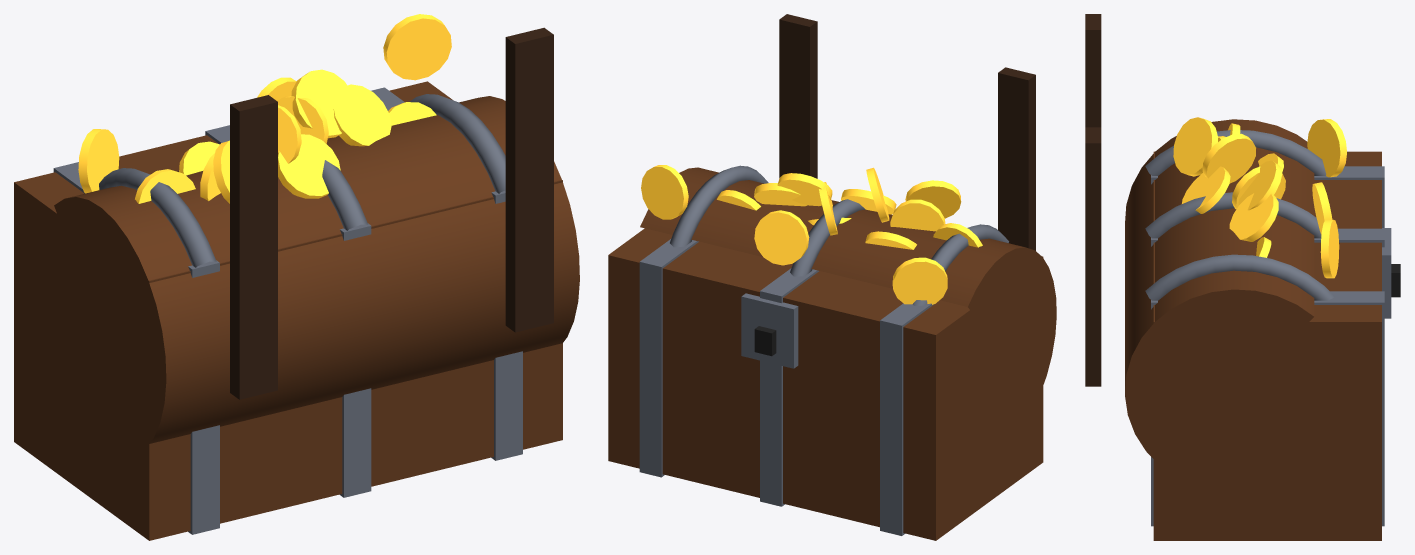
The model's file is back_eqtz0.glb.
3 renders of one model, left to right at view 1: azimuth 30°, elevation 25°; view 2: azimuth 150°, elevation 25°; view 3: azimuth 270°, elevation 25°, orthographic. The views are drawn at different scales.
Size of the model in its own units: 1.5 by 1.56 by 1.17.
